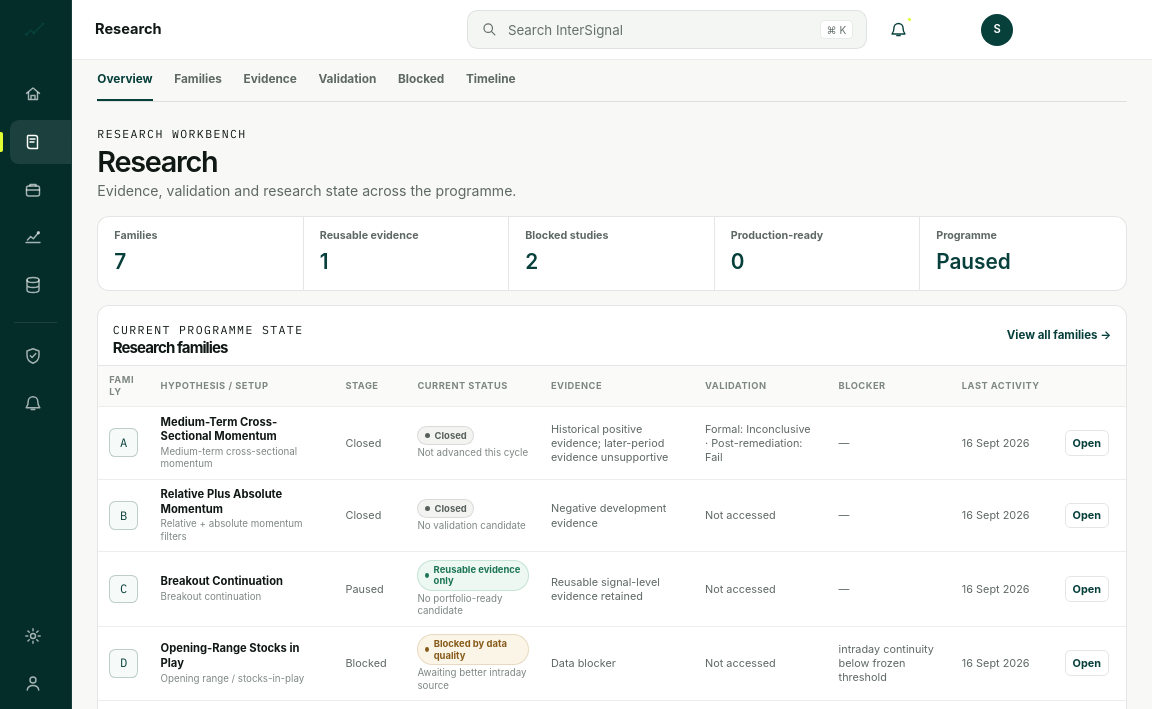
Test: Research Overview › offers Research destinations through the command palette
Check: the heading "Research" is shown, box x1=97 y1=144 x2=217 y2=179
Click the button with aria-label "Open command palette".
click(565, 30)  # box x1=467 y1=10 x2=867 y2=49
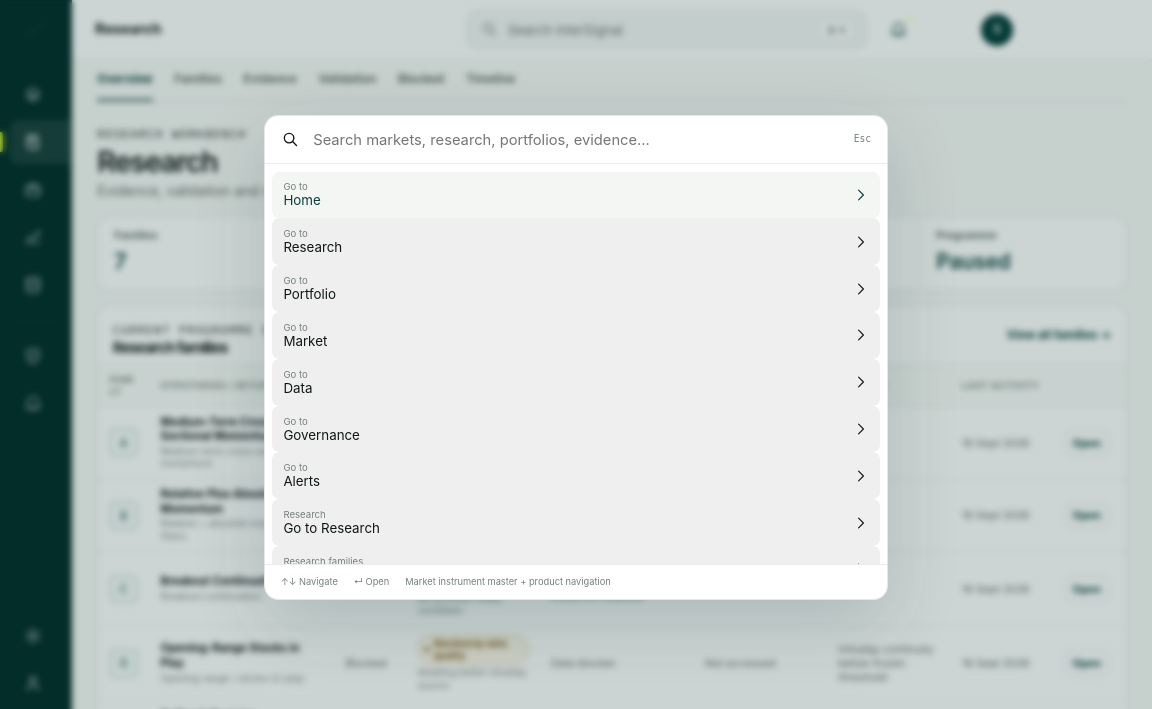
Type "Family G" into the field named "Search commands".
click(577, 140); type("Family G")  # box x1=311 y1=130 x2=842 y2=150
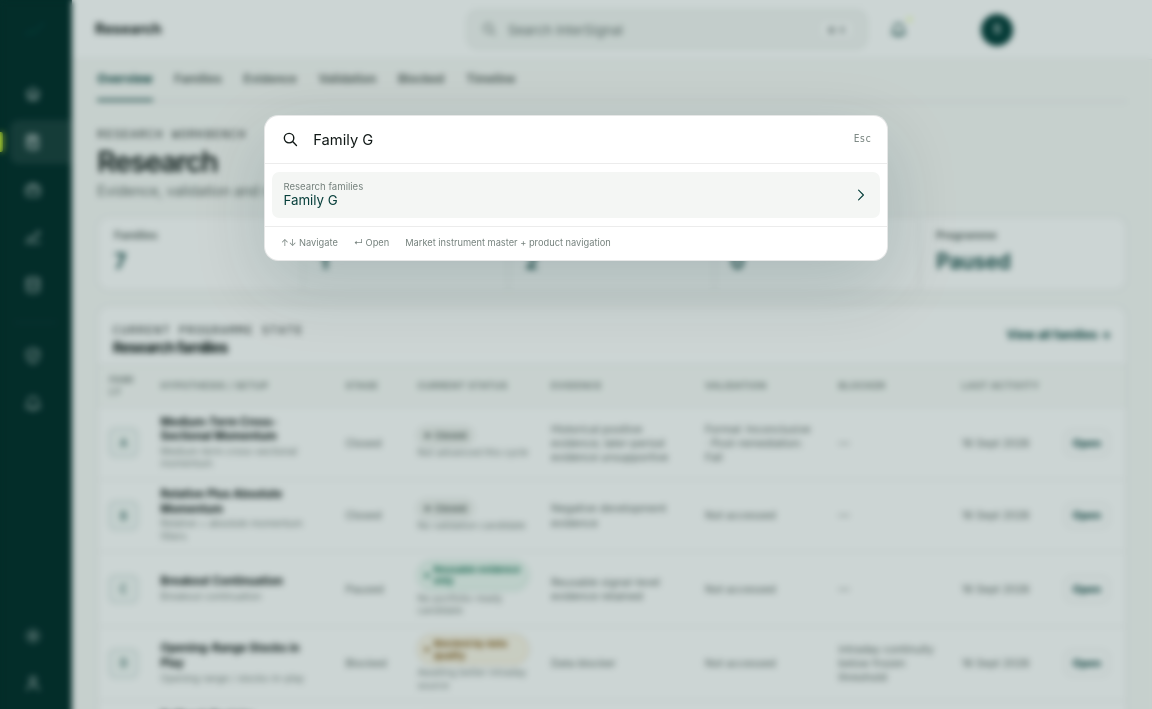
Check: the option "Research families Family G" is shown, box x1=272 y1=172 x2=880 y2=218
